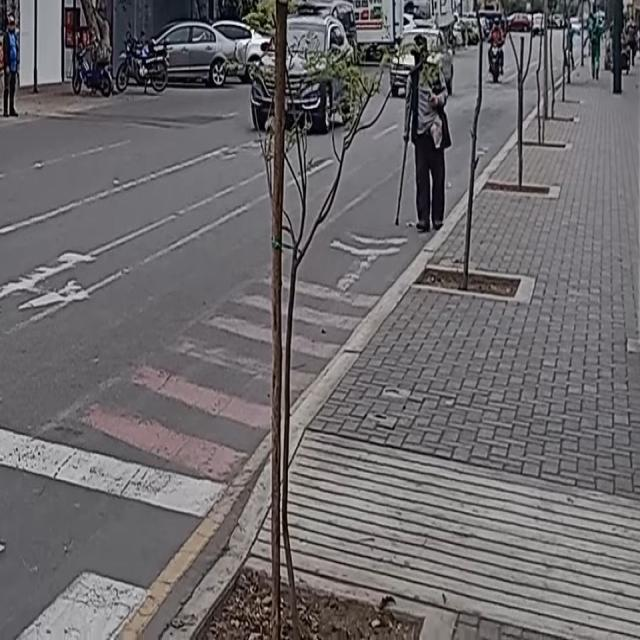car: (248, 15, 356, 133), (387, 26, 460, 98)
motorcycle: (485, 34, 506, 82)
